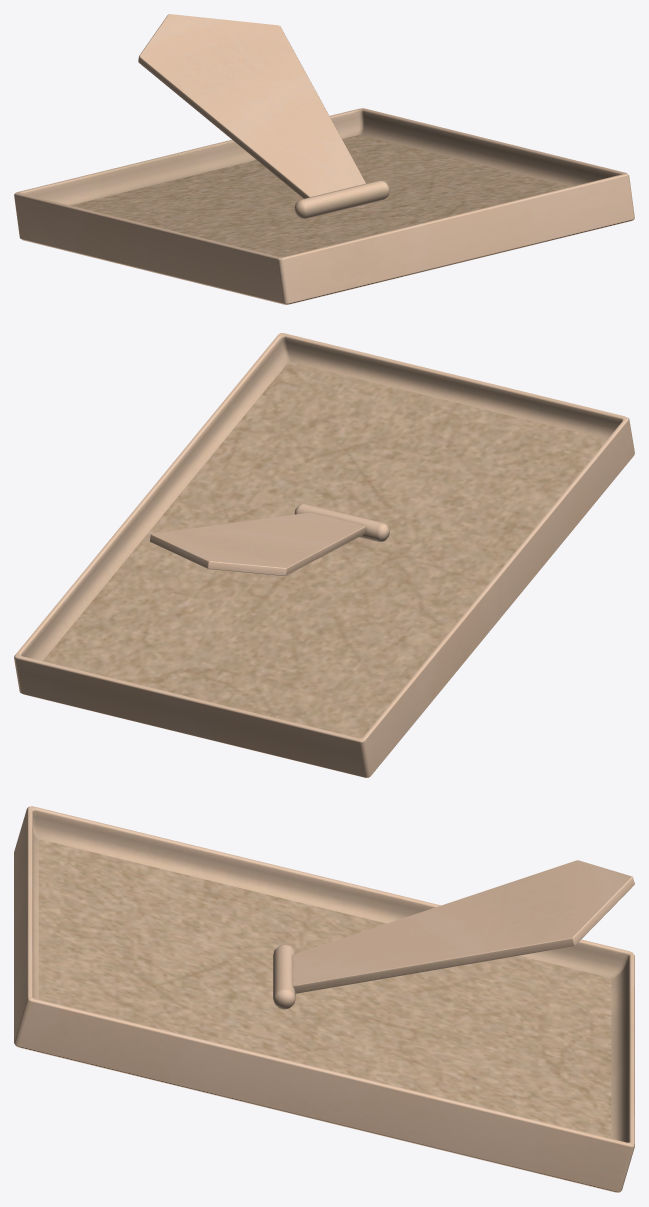
The model's file is Frame.gltf.
3 views of the same model, one above another, from view 1: azimuth 30°, elevation 25°; view 2: azimuth 150°, elevation 25°; view 3: azimuth 270°, elevation 25° (orthographic). The views are drawn at different scales.
Parts seen in each view (by area): view 1: [BuildingBlock] Frame; view 2: [BuildingBlock] Frame; view 3: [BuildingBlock] Frame.
Boxes of the visible parts, x1,y1,x2,y2 form: [BuildingBlock] Frame: [14, 14, 634, 304]; [BuildingBlock] Frame: [14, 333, 634, 777]; [BuildingBlock] Frame: [14, 806, 634, 1192].
Bounding box in the file's own units: 0.2033 × 0.102 × 0.2741.
1 material, 1 textured.
